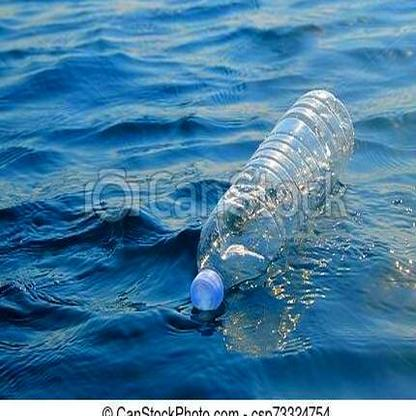plastic bottle: (189, 89, 355, 311)
